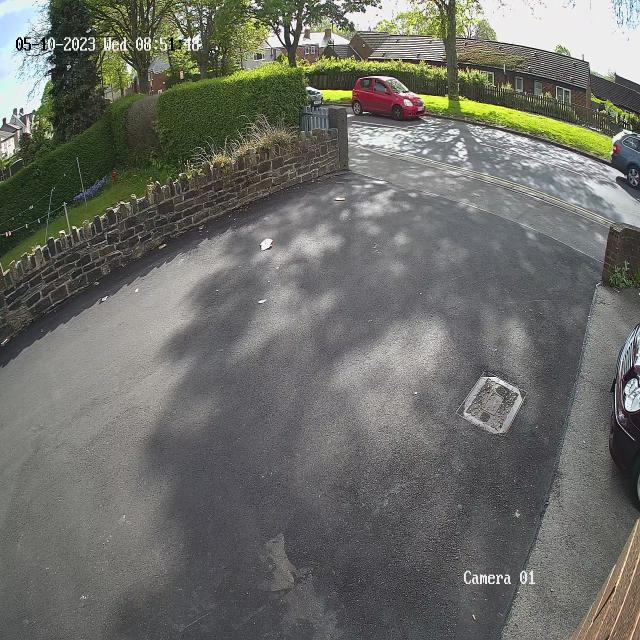vehicle: (344, 70, 430, 125), (607, 121, 640, 194)
